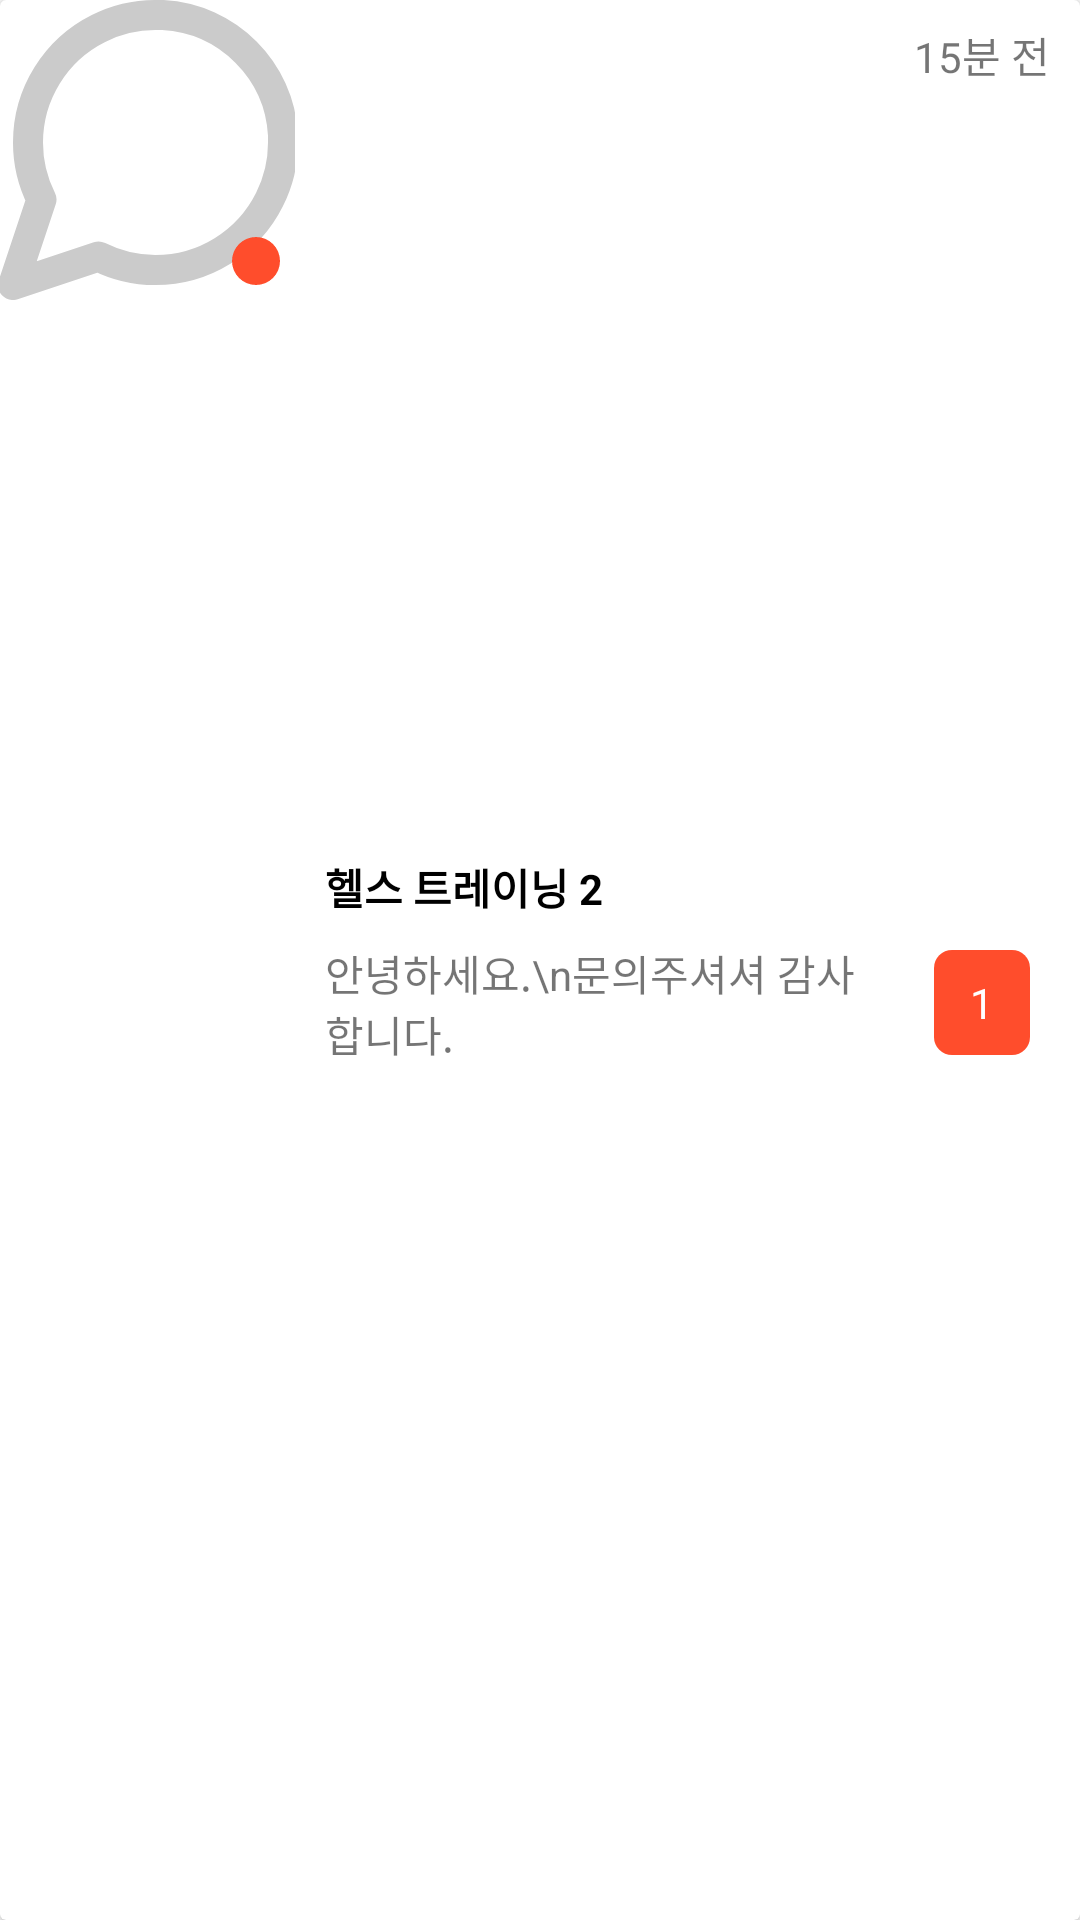

Icon click points for this 1080 x 1920 phone screenshot, format point (x, y):
chatting: point (147, 150)
